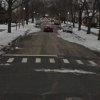crosswalk: (6, 57, 98, 65)
